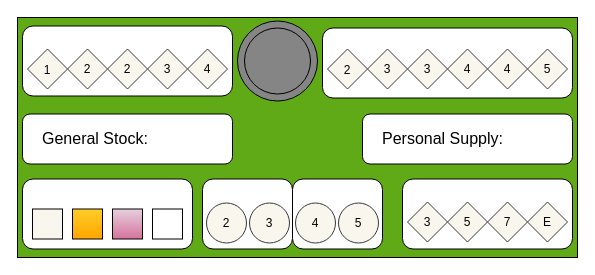
This 595x275 diagram has some shape labels left out. Here are the shapes that lost their labels. From the top down, the box of each, then its label:
(22, 25, 232, 96): Keys
(322, 27, 572, 98): Actiones
(22, 178, 192, 249): Privilegium
(202, 178, 292, 249): Liber
(292, 178, 382, 249): Sophiae
(402, 178, 572, 249): Income
